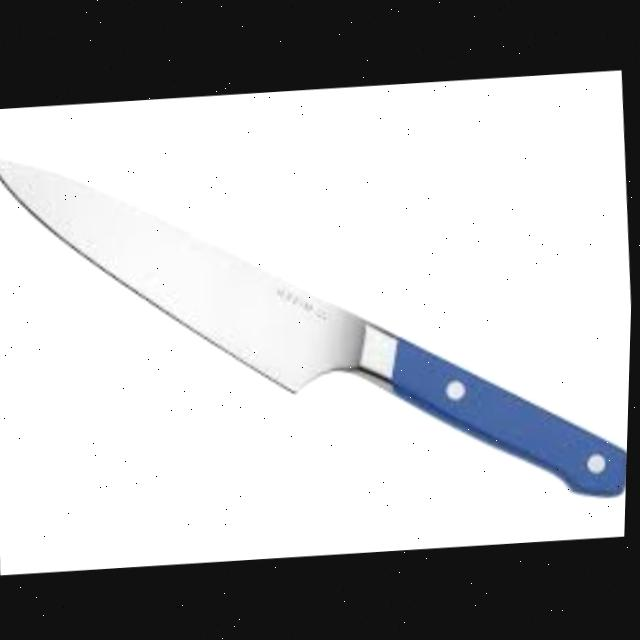Knife: (0, 107, 638, 538)
